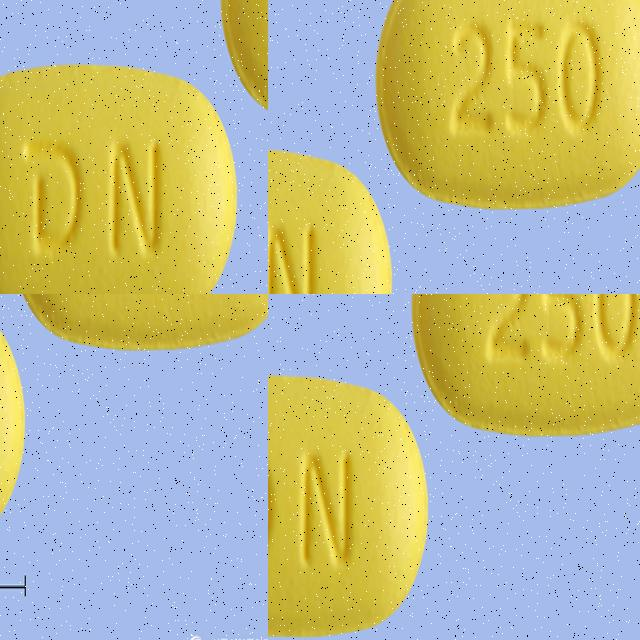Cephamethyl Cap: (322, 0, 640, 174), (268, 182, 451, 294)
Clamycin: (268, 369, 434, 640), (409, 294, 640, 442)
Clasta: (6, 294, 268, 362)
Clithro - 500mg: (0, 43, 254, 294)
